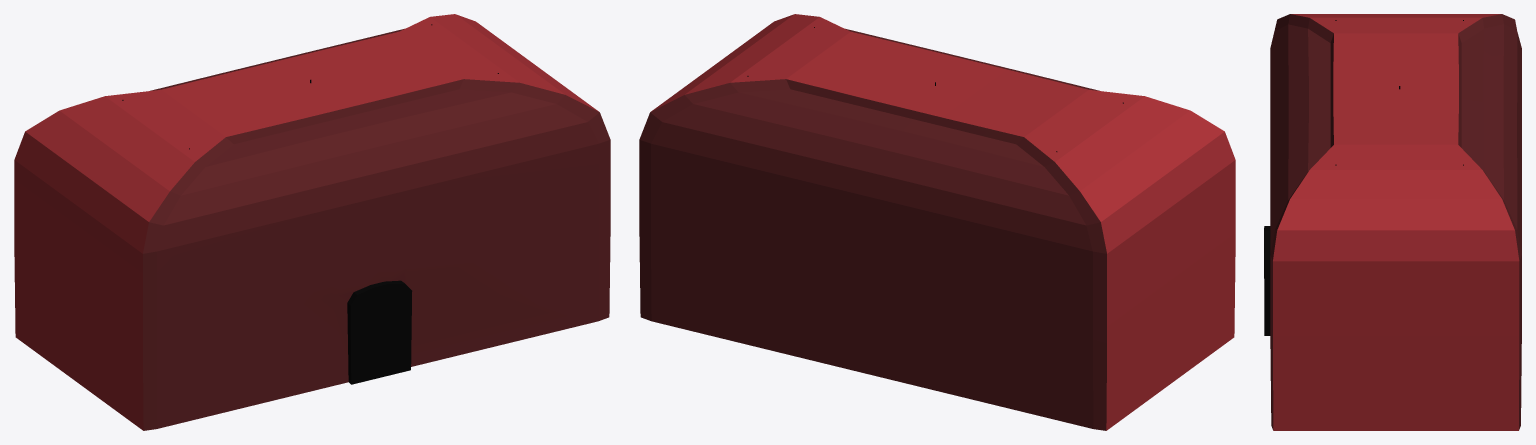
Rendered from cassinoSalaED (1).fbx.
3 renders of one model, left to right at view 1: azimuth 30°, elevation 25°; view 2: azimuth 150°, elevation 25°; view 3: azimuth 270°, elevation 25°, orthographic. The views are drawn at different scales.
Visible parts, largest first — view 1: Cube; view 2: Cube; view 3: Cube.
Boxes of the visible parts, bbox=[...] form: Cube: bbox=[14, 14, 610, 430]; Cube: bbox=[639, 14, 1235, 430]; Cube: bbox=[1264, 14, 1521, 430].
Size of the model in its own units: 546 by 275 by 272.
